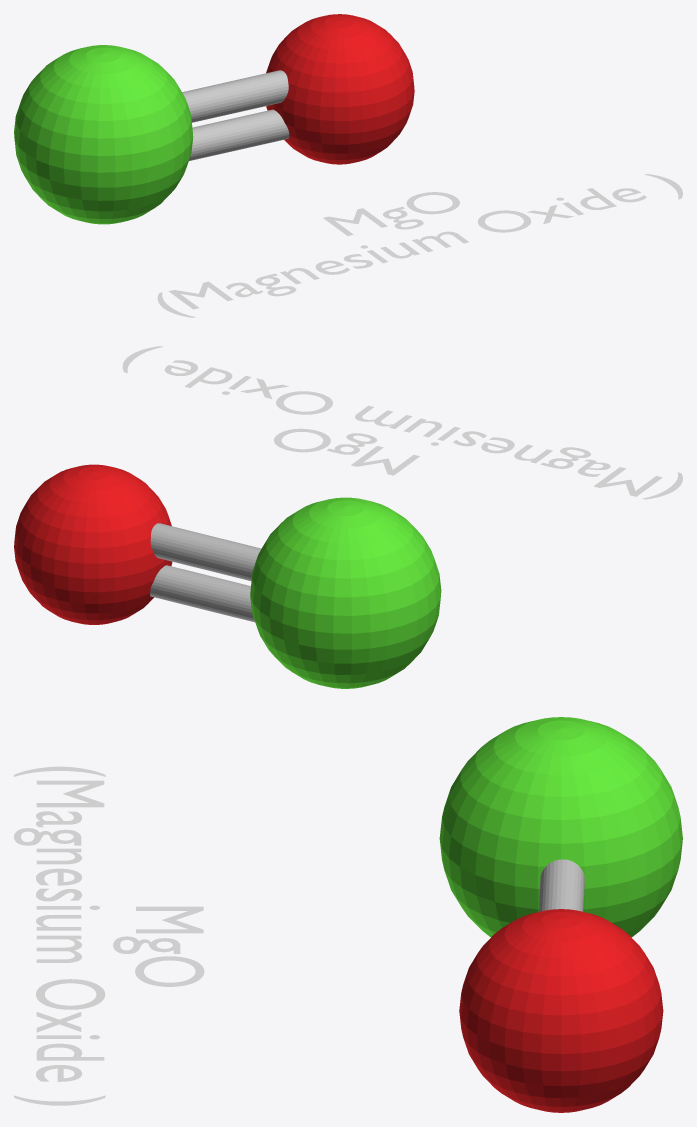
File: MgO molecule.fbx
The picture shows the model from 3 angles, top to bottom: view 1: azimuth 30°, elevation 25°; view 2: azimuth 150°, elevation 25°; view 3: azimuth 270°, elevation 25°; orthographic projection. The views are drawn at different scales.
Visible parts, largest first — view 1: Sphere, Sphere.002, Text, Cylinder, Cylinder.001; view 2: Sphere, Sphere.002, Text, Cylinder, Cylinder.001; view 3: Sphere, Sphere.002, Text, Cylinder.
Boxes of the visible parts, x1,y1,x2,y2 form: Sphere: (14,45,193,224); Sphere.002: (266,14,414,164); Text: (157,174,682,317); Cylinder: (182,70,288,122); Cylinder.001: (189,109,289,160); Sphere: (250,497,441,688); Sphere.002: (14,464,172,624); Text: (122,346,682,499); Cylinder: (150,523,261,581); Cylinder.001: (150,565,254,622); Sphere: (439,717,682,937); Sphere.002: (459,909,663,1112); Text: (14,766,204,1105); Cylinder: (538,859,584,911).
Size of the model in its own units: 809 by 245 by 675.
